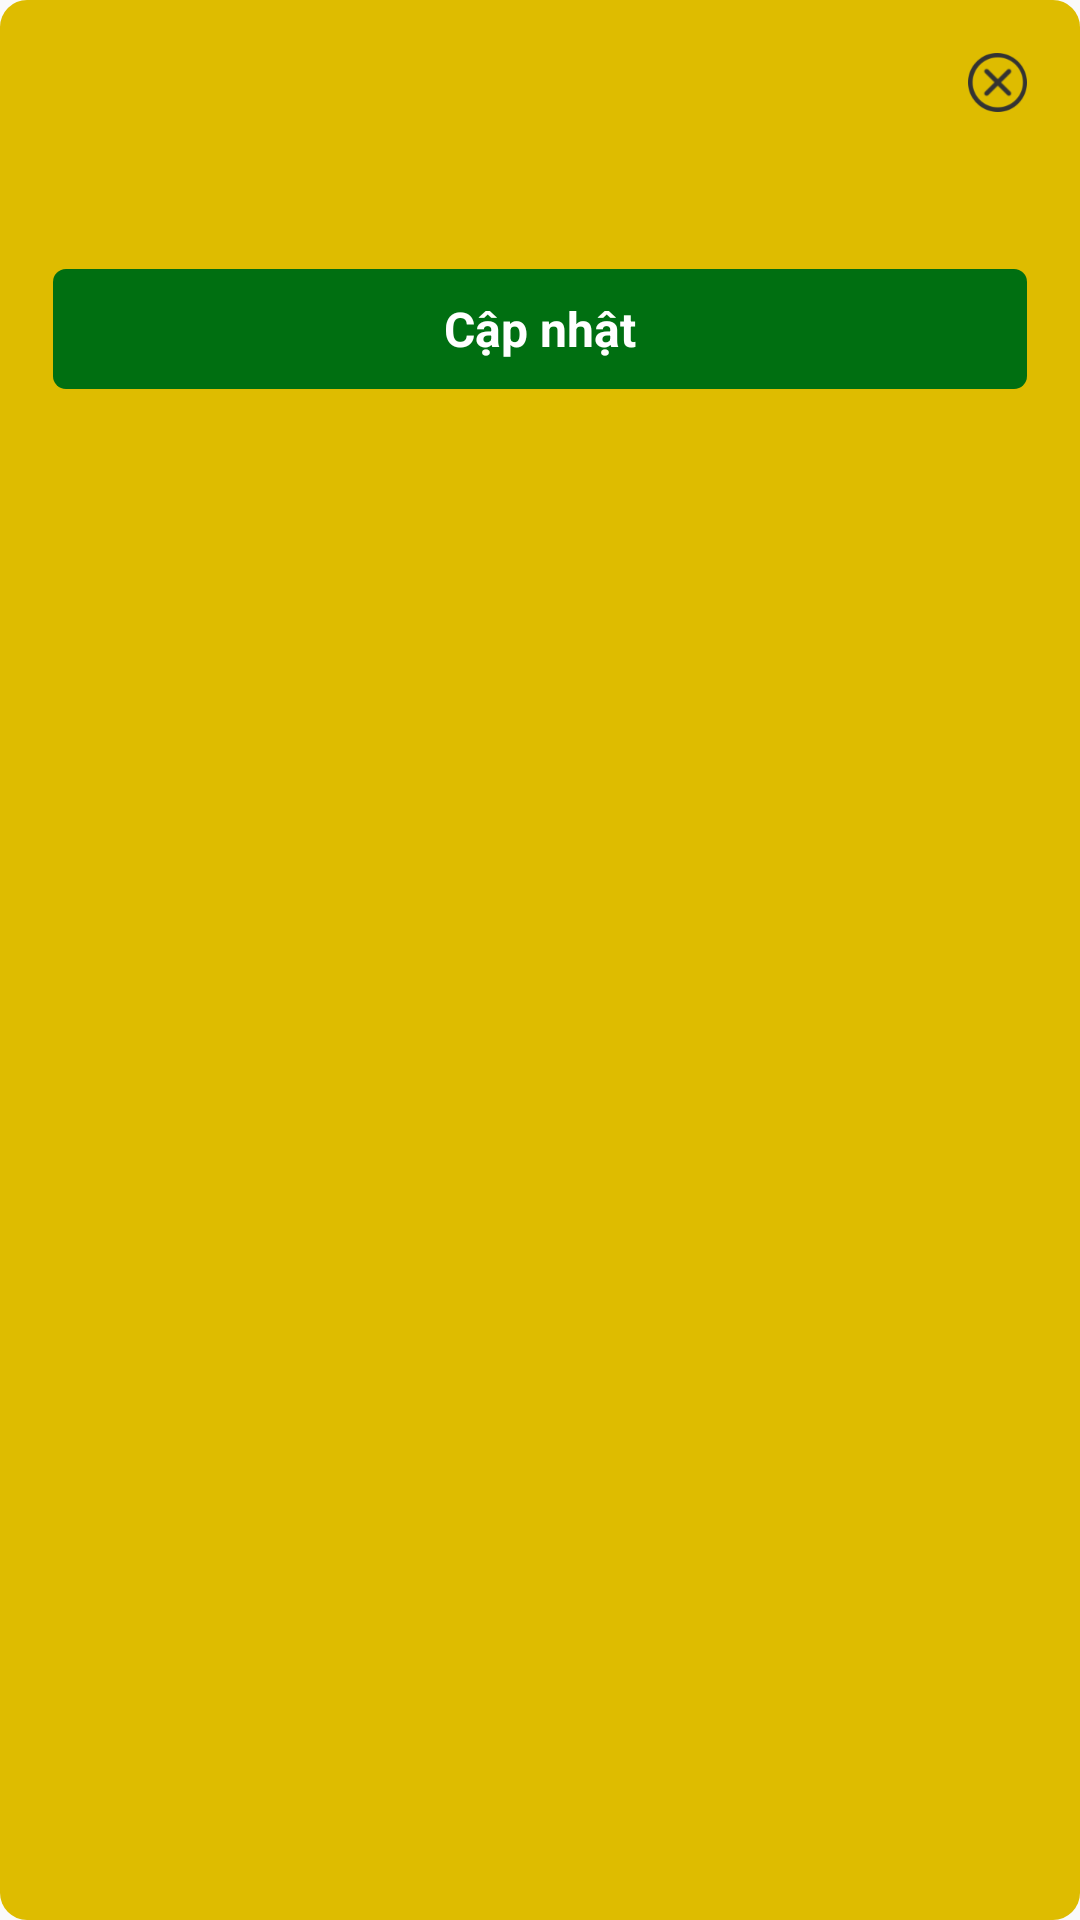

Where to tap for icons on this 1080 × 1920 app screen, as (x,y):
close permission window: (997,82)
